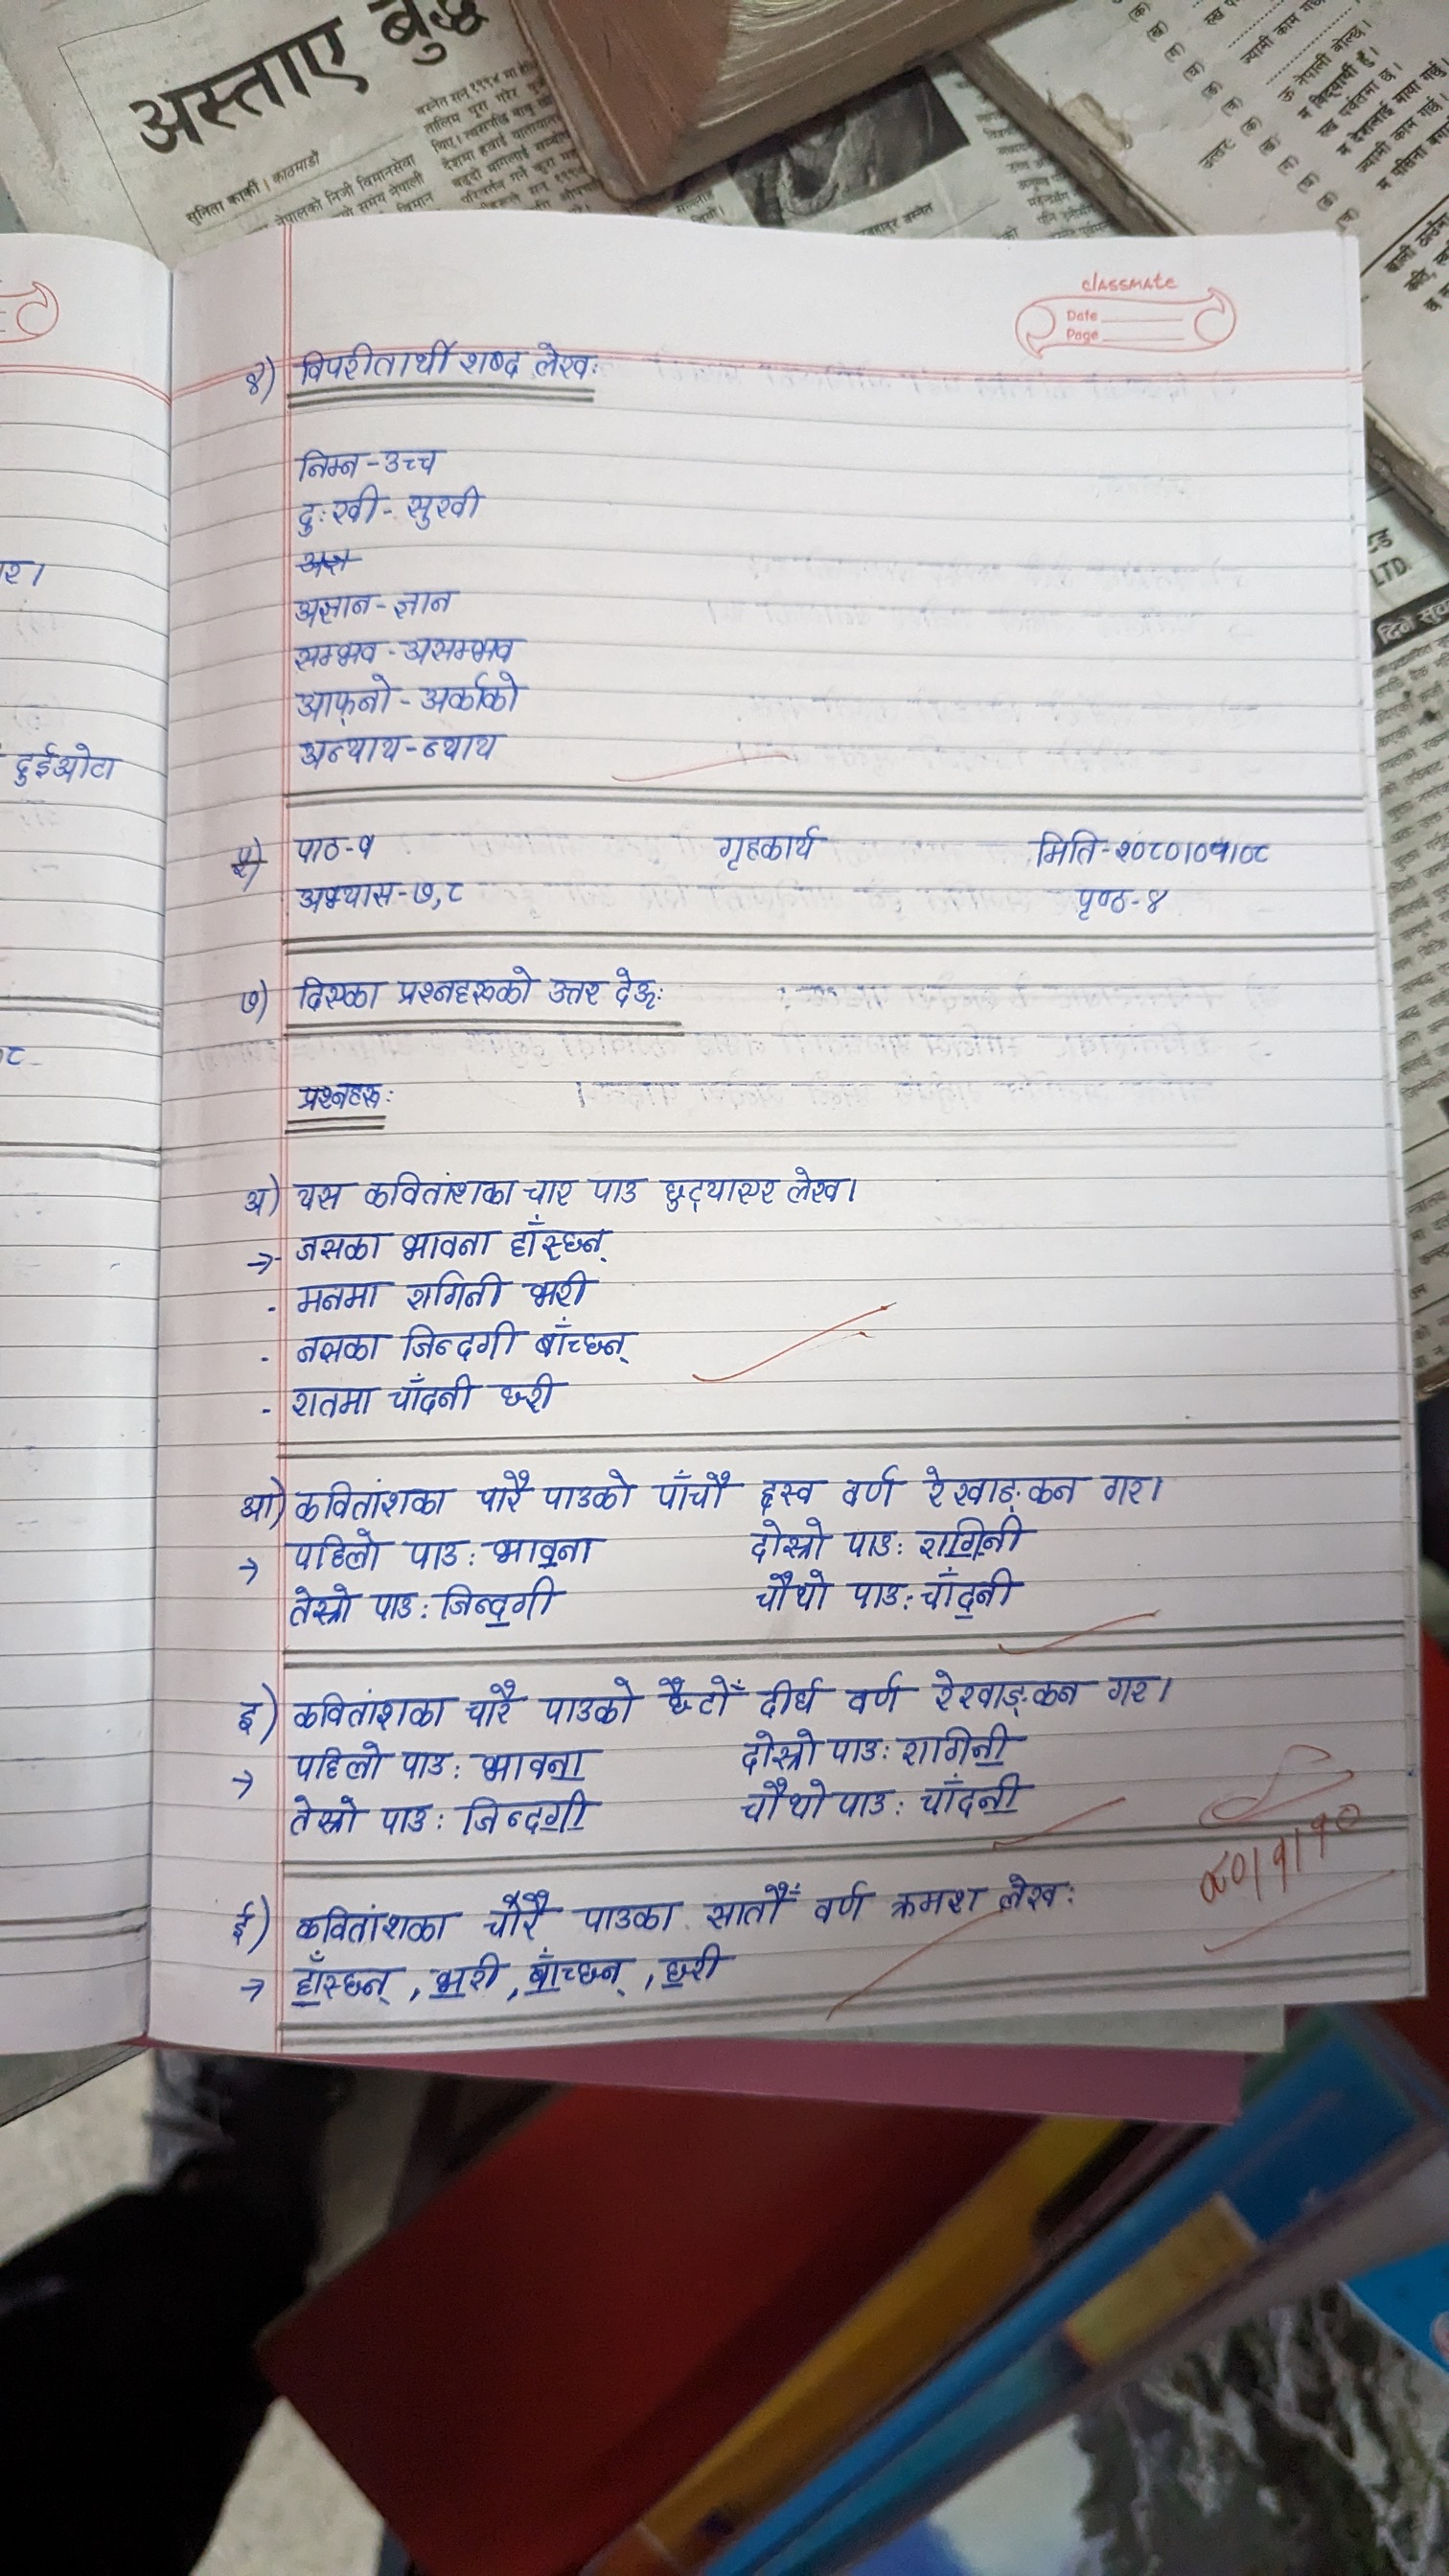text: (292, 333, 455, 387), (925, 1663, 1085, 1716), (288, 1684, 451, 1732), (916, 1463, 1077, 1509), (294, 1902, 455, 1946), (292, 1476, 444, 1522), (456, 1790, 600, 1838), (433, 1573, 564, 1624), (361, 1168, 517, 1208), (395, 962, 536, 1007), (538, 1672, 640, 1727), (520, 1946, 630, 1996), (467, 1739, 600, 1780), (292, 1951, 396, 2003), (701, 824, 826, 867), (897, 1721, 1016, 1766), (915, 1514, 1030, 1559), (653, 1171, 777, 1212), (913, 1773, 1037, 1813), (398, 1320, 517, 1362), (701, 1877, 801, 1927), (504, 1215, 612, 1261), (573, 1890, 685, 1934), (918, 1568, 1021, 1615), (646, 1670, 743, 1720), (294, 725, 402, 770), (540, 1463, 637, 1511), (416, 672, 520, 717), (485, 1527, 600, 1566), (533, 329, 598, 396), (283, 1741, 389, 1782), (734, 1778, 828, 1824), (290, 676, 391, 718), (292, 1530, 389, 1573), (400, 633, 529, 665), (290, 488, 382, 533), (292, 1069, 384, 1113), (403, 479, 488, 527), (888, 1881, 984, 1923), (536, 1318, 626, 1362), (398, 1219, 494, 1260), (731, 1729, 821, 1771), (391, 1368, 474, 1414), (292, 879, 398, 915), (405, 1270, 504, 1307), (479, 1890, 554, 1939), (294, 1228, 391, 1265), (750, 1568, 832, 1612), (290, 975, 382, 1014), (419, 732, 520, 768), (658, 1939, 725, 1992), (467, 1467, 534, 1518), (651, 1467, 729, 1511), (285, 1792, 363, 1836), (287, 1382, 377, 1419), (842, 1665, 909, 1714), (810, 1875, 878, 1925), (745, 1520, 826, 1560), (996, 1870, 1067, 1916), (839, 1458, 904, 1507), (428, 1951, 499, 1996), (294, 439, 361, 485), (290, 1327, 382, 1361), (290, 587, 373, 625), (495, 1373, 568, 1415), (754, 1675, 828, 1716), (285, 1583, 356, 1626), (290, 1281, 389, 1311), (1026, 824, 1099, 865), (524, 1269, 594, 1309), (1069, 879, 1132, 924), (285, 637, 384, 665), (609, 962, 662, 1014), (465, 1679, 518, 1730), (387, 582, 460, 619), (752, 1474, 823, 1511), (787, 1164, 844, 1210), (849, 1573, 908, 1614), (292, 1177, 352, 1215), (1102, 1665, 1157, 1707), (464, 347, 524, 384), (835, 1780, 895, 1817), (1097, 1465, 1148, 1507), (403, 1532, 462, 1569), (377, 1798, 428, 1838), (826, 1730, 886, 1764), (547, 971, 600, 1007), (524, 1173, 577, 1208), (382, 444, 444, 474), (1113, 837, 1178, 865), (398, 1744, 448, 1780), (234, 349, 267, 400), (840, 1529, 899, 1557), (292, 832, 343, 863), (591, 1169, 637, 1205), (228, 1895, 258, 1946), (1139, 878, 1175, 920), (1233, 837, 1279, 867), (372, 1591, 418, 1621), (235, 1693, 265, 1739), (239, 1490, 281, 1520), (356, 826, 389, 862), (239, 1180, 272, 1215), (235, 978, 260, 1023), (1192, 837, 1230, 862), (442, 878, 471, 906), (412, 878, 435, 911)
